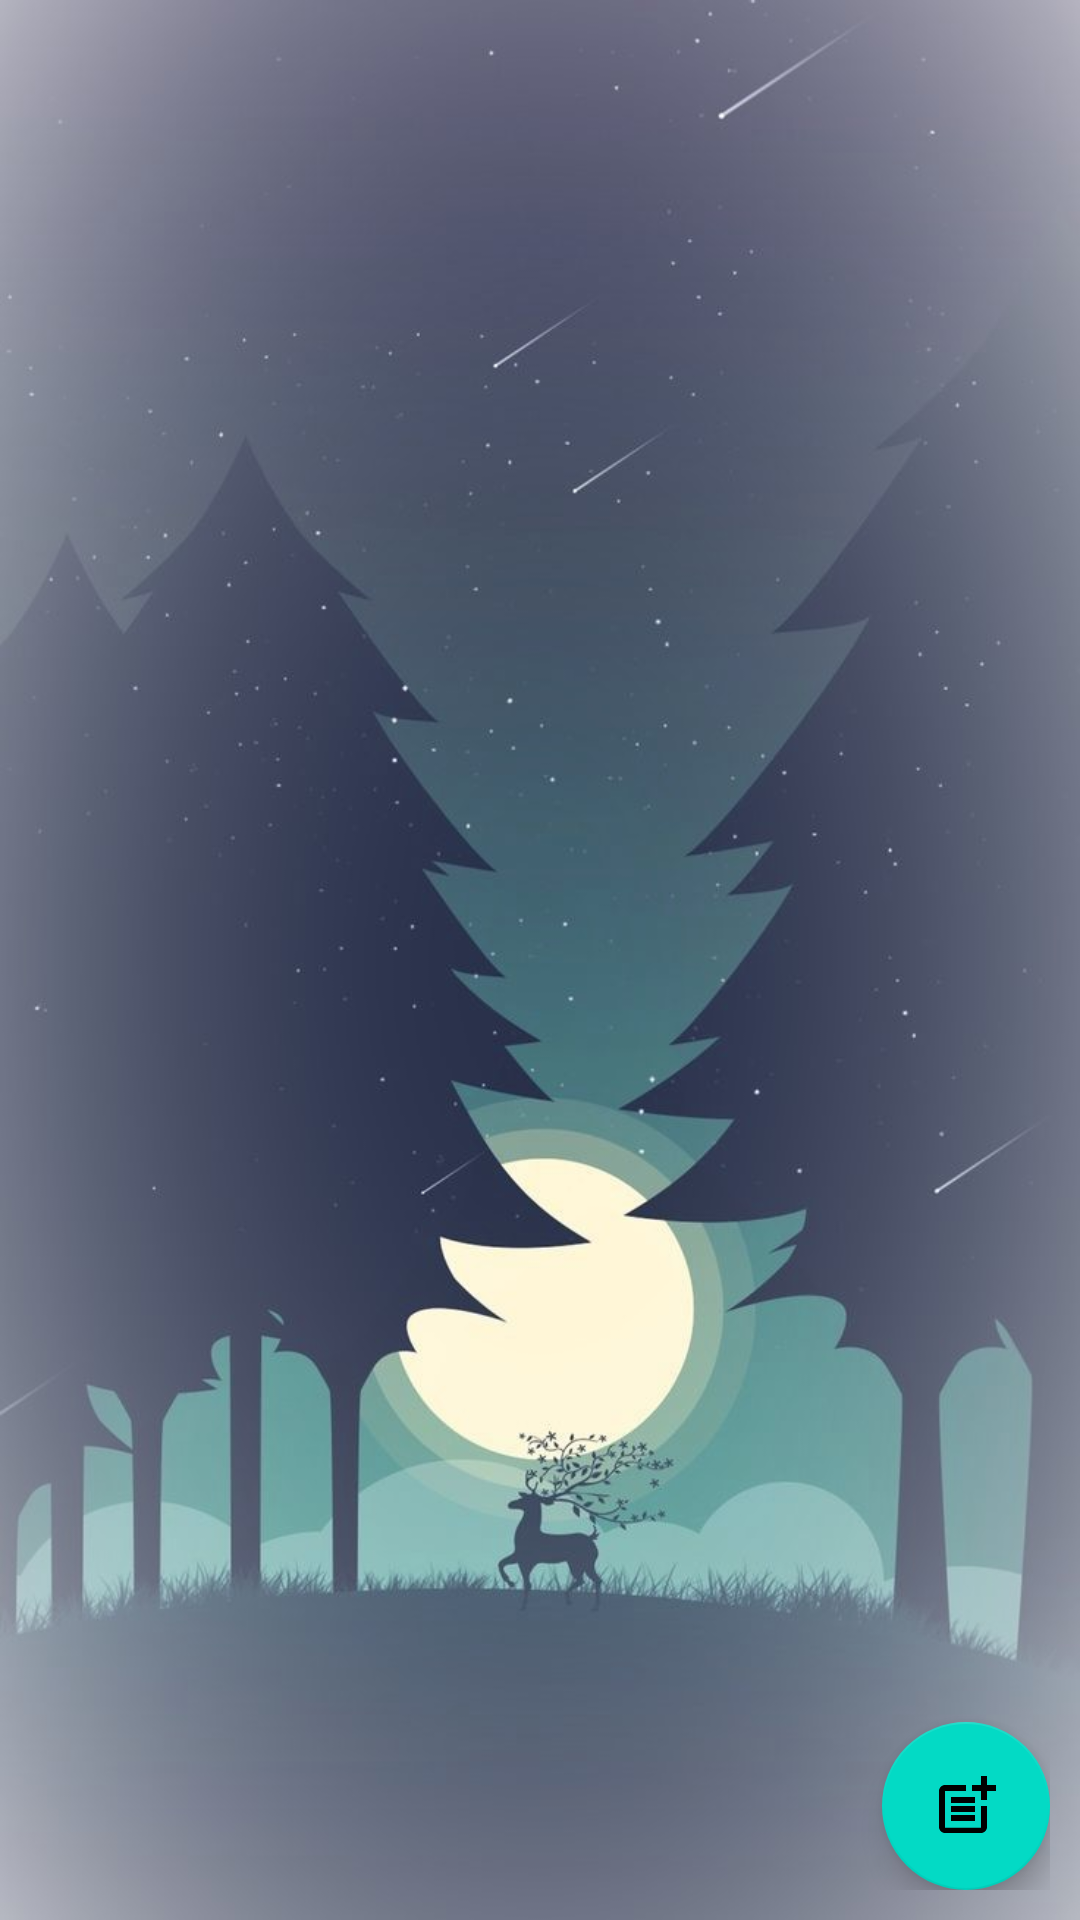

Icons on this 1080w x 1920h Android screen, each with its box as (x1, y1, x2, y2):
post add: (882, 1722, 1050, 1890)
